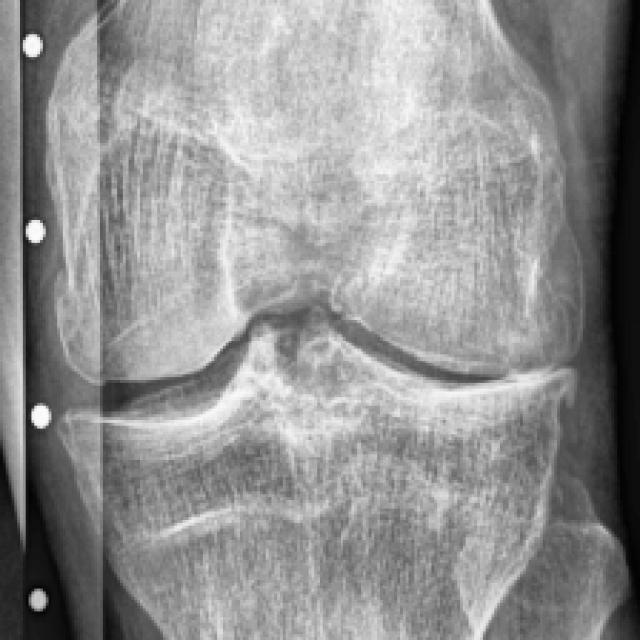femur: (49, 1, 583, 387)
tibia: (54, 309, 566, 640)
